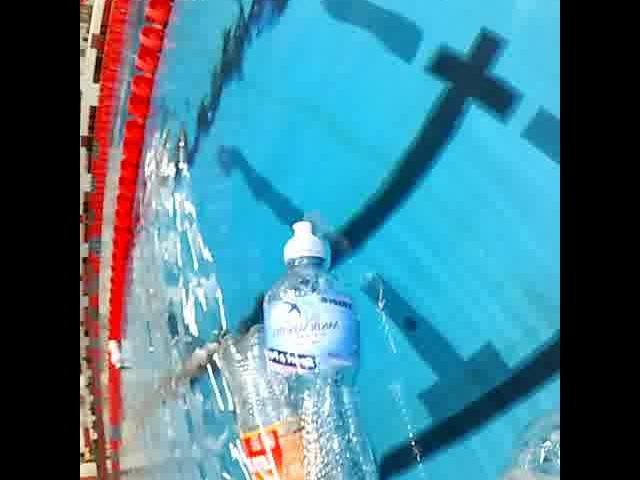Bottle: (263, 214, 393, 480), (212, 317, 338, 480), (453, 375, 560, 480), (106, 335, 128, 373)
